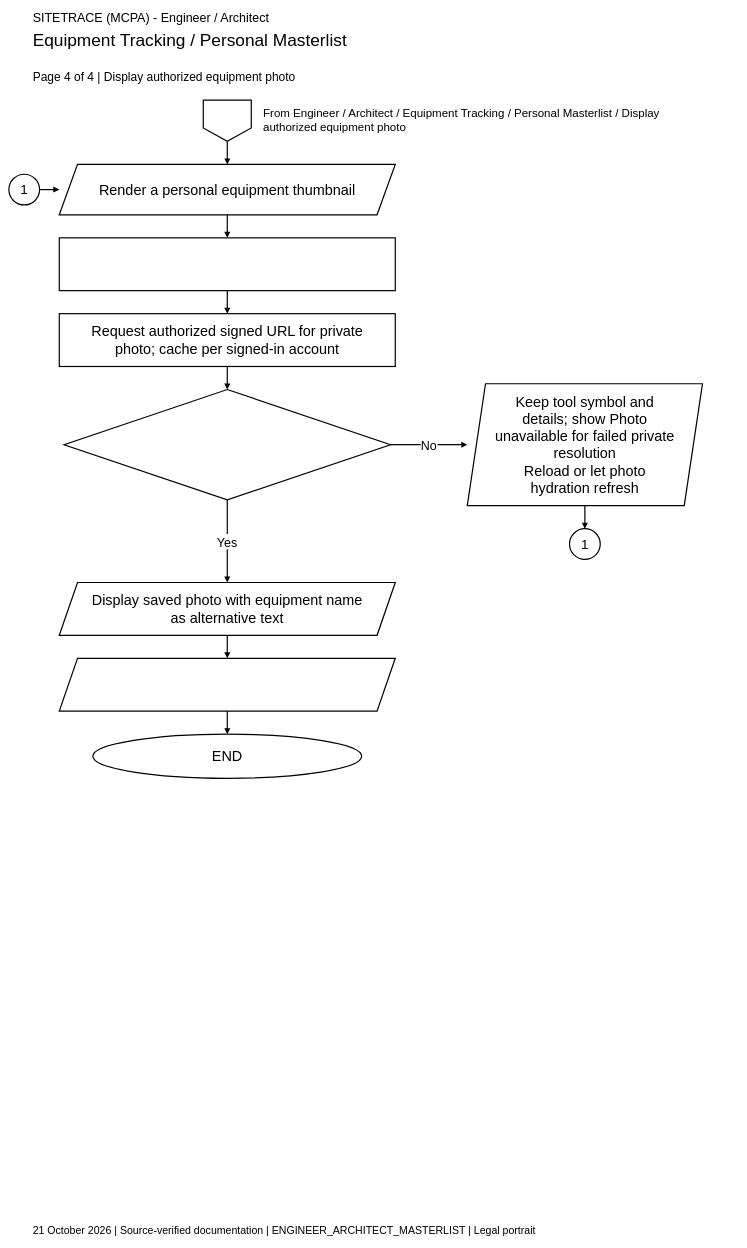
Image size: 747x1248. Some labels were removed from this diagram. Each missing label, with the centre of its shape:
Did the image resolve and load?: the point at 227,444
Equipment photo displayed; missing or invalid image uses the equipment symbol.: the point at 227,685
HA: the point at 227,120
Use supported image URL or resolve a private equipment-photos storage reference: the point at 227,264
